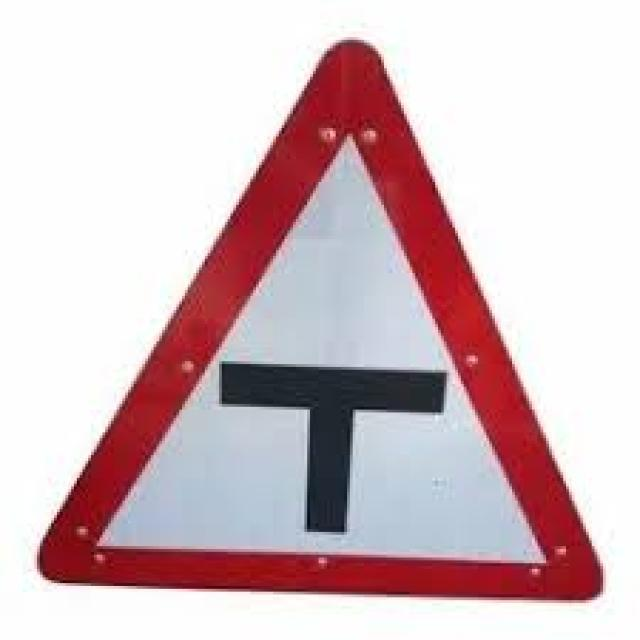t intersection: (34, 38, 614, 604)
